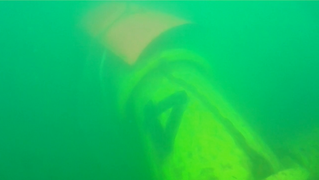4: (140, 89, 191, 166)
leak: (92, 4, 208, 67)
pipe: (107, 47, 313, 180), (275, 127, 319, 175)
